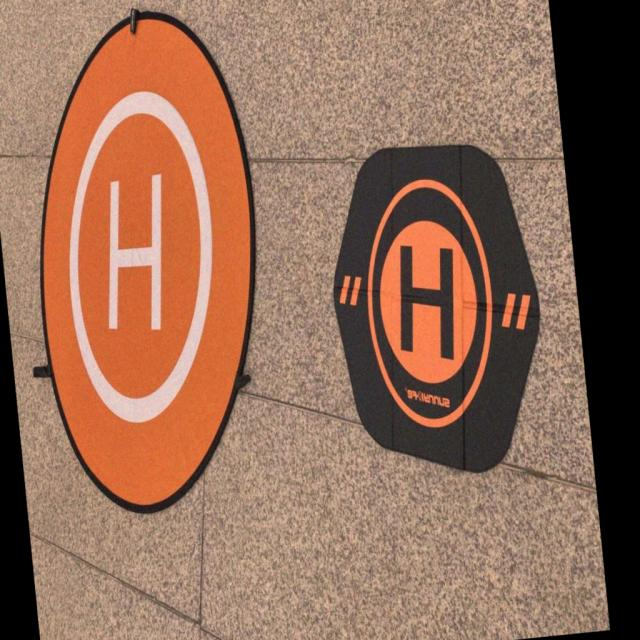helipad: (66, 90, 218, 427), (360, 176, 496, 432)
